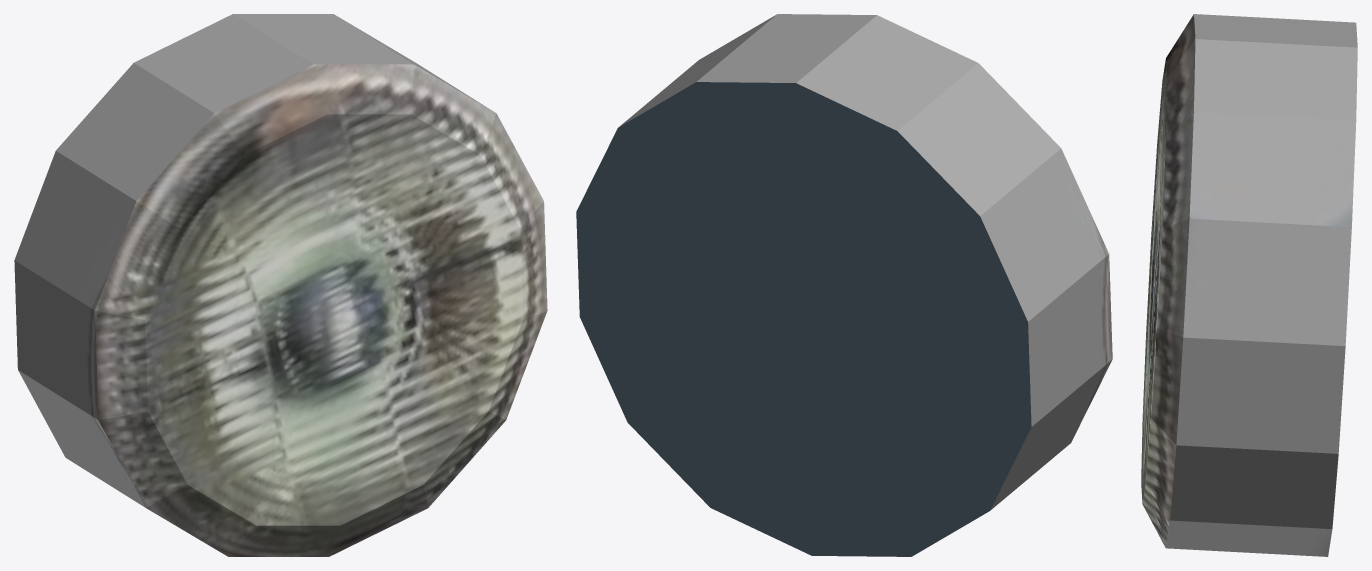
File: vehicle_light_two.obj
3 renders of one model, left to right at view 1: azimuth 30°, elevation 25°; view 2: azimuth 150°, elevation 25°; view 3: azimuth 270°, elevation 25°, orthographic.
Visible parts, largest first — view 1: car_light2; view 2: car_light2; view 3: car_light2.
Boxes of the visible parts, x1,y1,x2,y2 form: car_light2: (14,14,547,556); car_light2: (576,14,1112,556); car_light2: (1141,14,1357,556).
Size of the model in its own units: 0.4965 by 0.5174 by 0.2061.
1 material, 1 textured.
